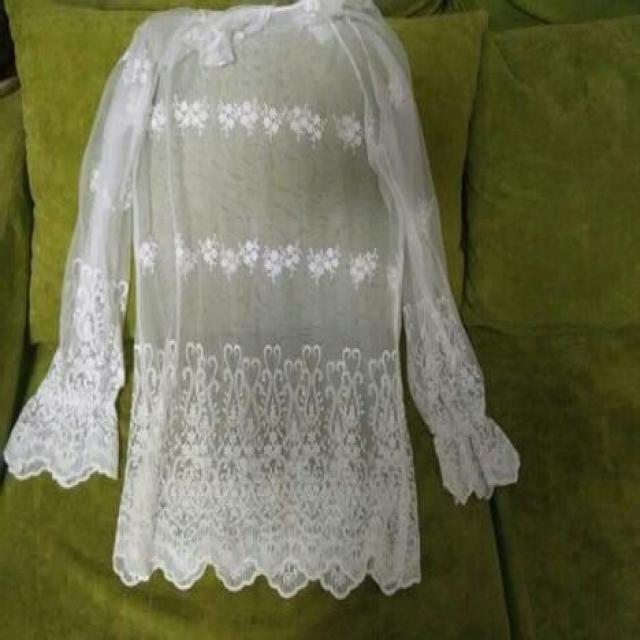long sleeve top: (4, 4, 520, 582)
